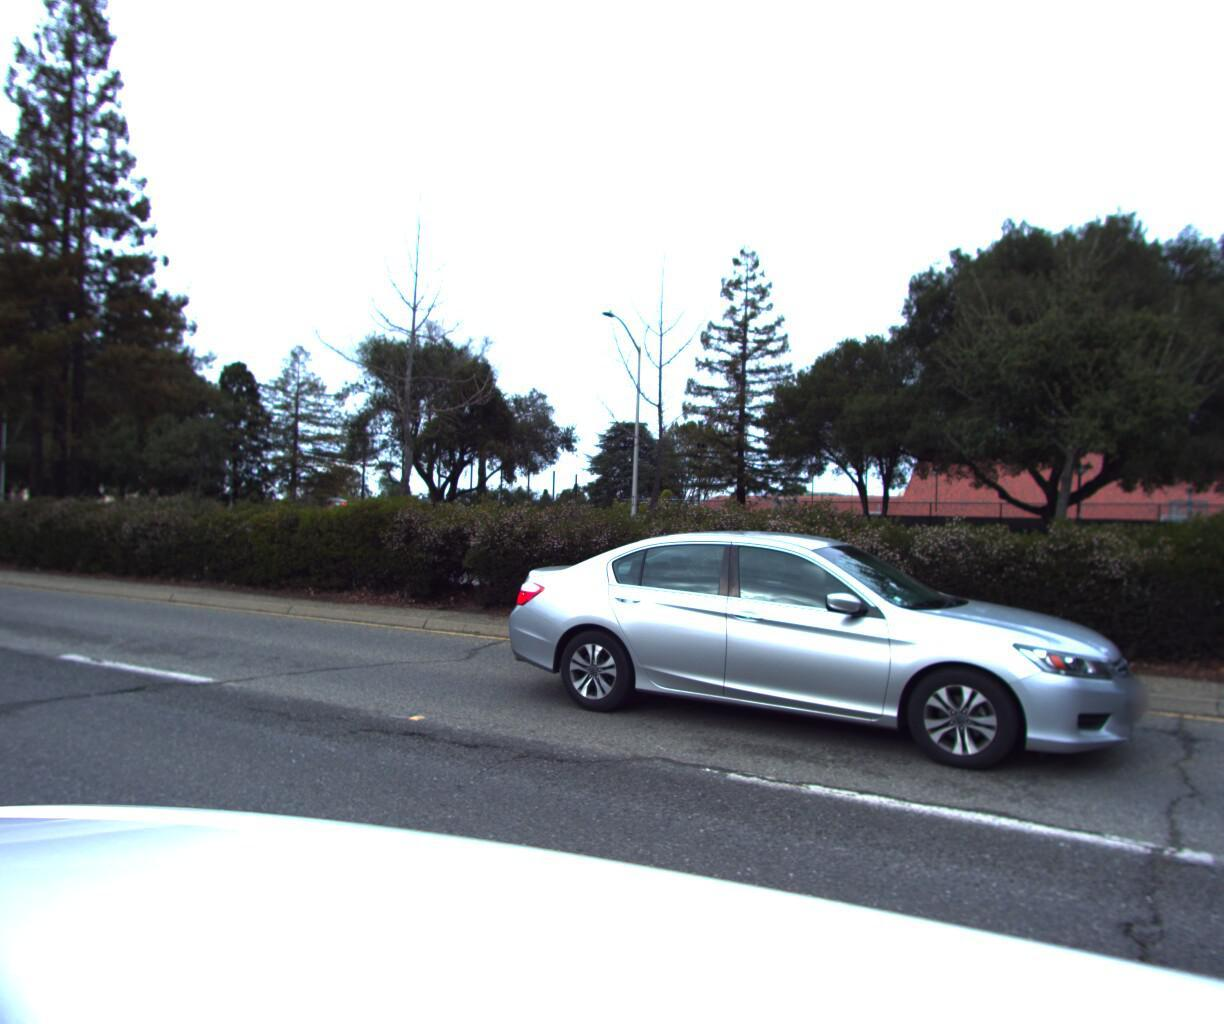car: (453, 492, 1098, 788)
